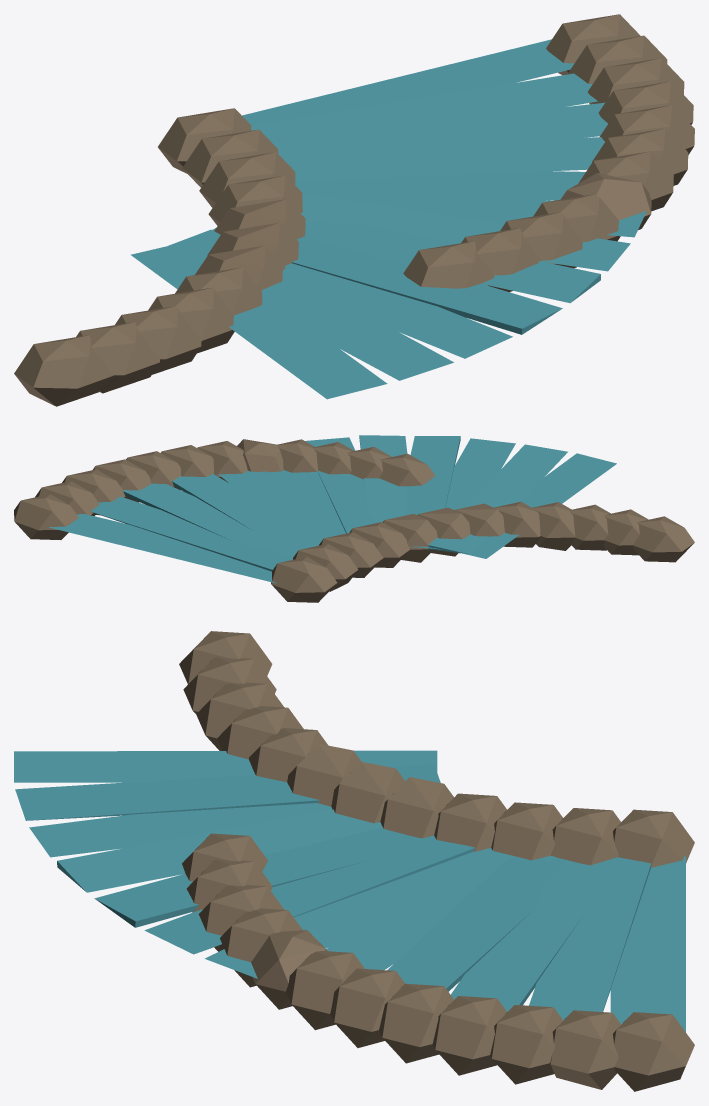
The model's file is landscape-river-curve.lod1.glb.
3 renders of one model, top to bottom at view 1: azimuth 30°, elevation 25°; view 2: azimuth 150°, elevation 25°; view 3: azimuth 270°, elevation 25°, orthographic. The views are drawn at different scales.
Visible parts, largest first — view 1: landscape-river-curve__body; view 2: landscape-river-curve__body; view 3: landscape-river-curve__body.
Part boxes in pixels (box(x1,y1,x2,y2)): landscape-river-curve__body: box(14, 14, 694, 406); landscape-river-curve__body: box(14, 435, 694, 602); landscape-river-curve__body: box(14, 631, 694, 1091).
Bounding box in the file's own units: 7.2 × 0.5 × 4.83.
